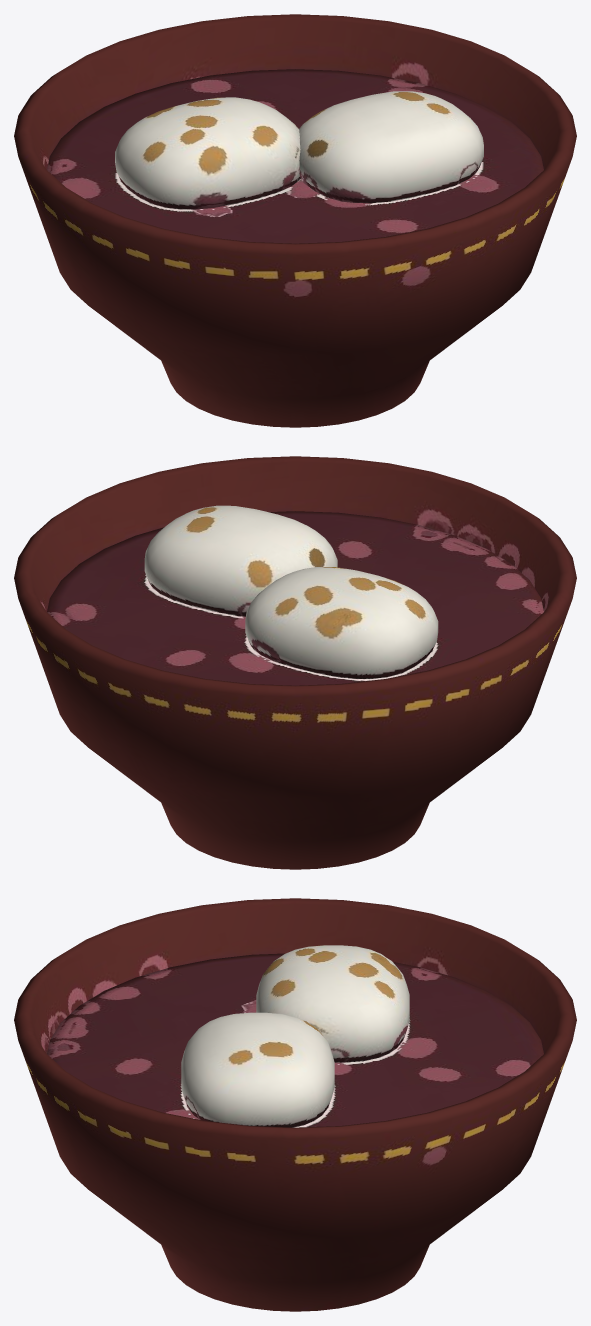
The model's file is oshiruko.glb.
The picture shows the model from 3 angles, top to bottom: view 1: azimuth 30°, elevation 25°; view 2: azimuth 150°, elevation 25°; view 3: azimuth 270°, elevation 25°; orthographic projection.
Visible parts, largest first — view 1: prop_oshiruko_felt; view 2: prop_oshiruko_felt; view 3: prop_oshiruko_felt.
Boxes of the visible parts, x1,y1,x2,y2 form: prop_oshiruko_felt: (14, 14, 576, 427); prop_oshiruko_felt: (14, 456, 576, 869); prop_oshiruko_felt: (14, 898, 576, 1311).
Size of the model in its own units: 0.18 by 0.0928 by 0.18.
1 material, 1 textured.
